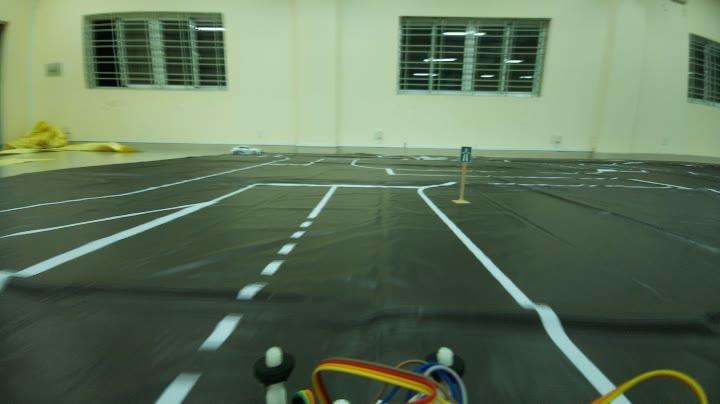highway_entry: (455, 138, 474, 170)
